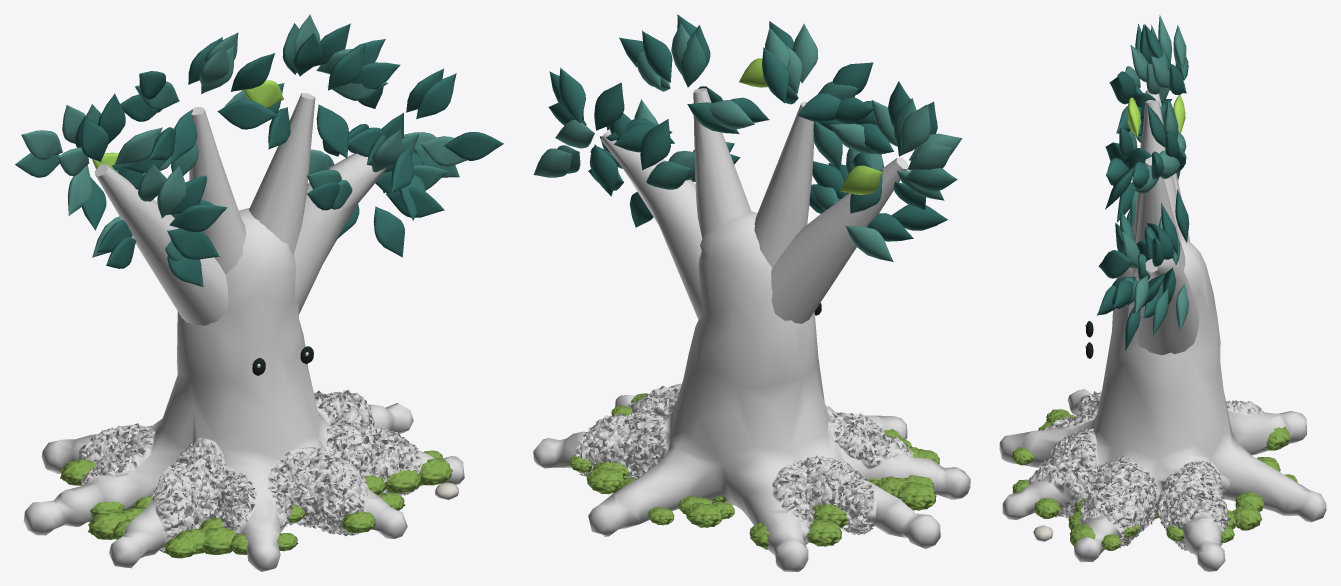
The picture shows the model from 3 angles, left to right: view 1: azimuth 30°, elevation 25°; view 2: azimuth 150°, elevation 25°; view 3: azimuth 270°, elevation 25°; orthographic projection. The views are drawn at different scales.
Parts seen in each view (by area): view 1: trunk, c, c.002, c.003, c.001, Sphere.044, Sphere.007, Sphere.081, Sphere.004, Sphere.029, Sphere.064, Sphere.015 (+36 smaller); view 2: trunk, c, c.001, c.003, c.002, Sphere.041, Sphere.033, Sphere.054, Sphere.076, Sphere.037, Sphere.009, Sphere.002 (+28 smaller); view 3: trunk, c.003, c.002, c.001, Sphere.021, Icosphere.002, Sphere.069, Sphere.033, Icosphere.001, Sphere.044, Icosphere.037, Sphere.050 (+4 smaller).
Part boxes in pixels (bbox=[...]): trunk: bbox=[23, 208, 464, 571]; c: bbox=[94, 164, 228, 325]; c.002: bbox=[249, 93, 315, 254]; c.003: bbox=[294, 153, 386, 314]; c.001: bbox=[189, 107, 246, 274]; Sphere.044: bbox=[316, 104, 348, 158]; Sphere.007: bbox=[217, 100, 278, 129]; Sphere.081: bbox=[444, 132, 503, 160]; Sphere.004: bbox=[167, 228, 219, 259]; Sphere.029: bbox=[373, 206, 404, 257]; Sphere.064: bbox=[169, 204, 227, 232]; Sphere.015: bbox=[416, 73, 456, 119]; trunk: bbox=[533, 211, 970, 571]; c: bbox=[771, 157, 908, 323]; c.001: bbox=[754, 101, 813, 267]; c.003: bbox=[600, 129, 702, 320]; c.002: bbox=[693, 88, 751, 238]; Sphere.041: bbox=[640, 119, 670, 170]; Sphere.033: bbox=[594, 82, 624, 130]; Sphere.054: bbox=[900, 105, 930, 153]; Sphere.076: bbox=[846, 226, 893, 261]; Sphere.037: bbox=[762, 47, 789, 103]; Sphere.009: bbox=[559, 67, 585, 123]; Sphere.002: bbox=[642, 30, 672, 82]; trunk: bbox=[999, 235, 1326, 571]; c.003: bbox=[1128, 258, 1198, 355]; c.002: bbox=[1132, 157, 1185, 276]; c.001: bbox=[1133, 100, 1182, 242]; Sphere.021: bbox=[1098, 250, 1131, 278]; Icosphere.002: bbox=[1232, 505, 1262, 530]; Sphere.069: bbox=[1153, 288, 1168, 335]; Sphere.033: bbox=[1175, 189, 1189, 242]; Icosphere.001: bbox=[1034, 498, 1060, 518]; Sphere.044: bbox=[1105, 166, 1134, 209]; Icosphere.037: bbox=[1265, 426, 1290, 450]; Sphere.050: bbox=[1147, 104, 1165, 147].
Size of the model in its own units: 1.6 by 1.63 by 1.1.
